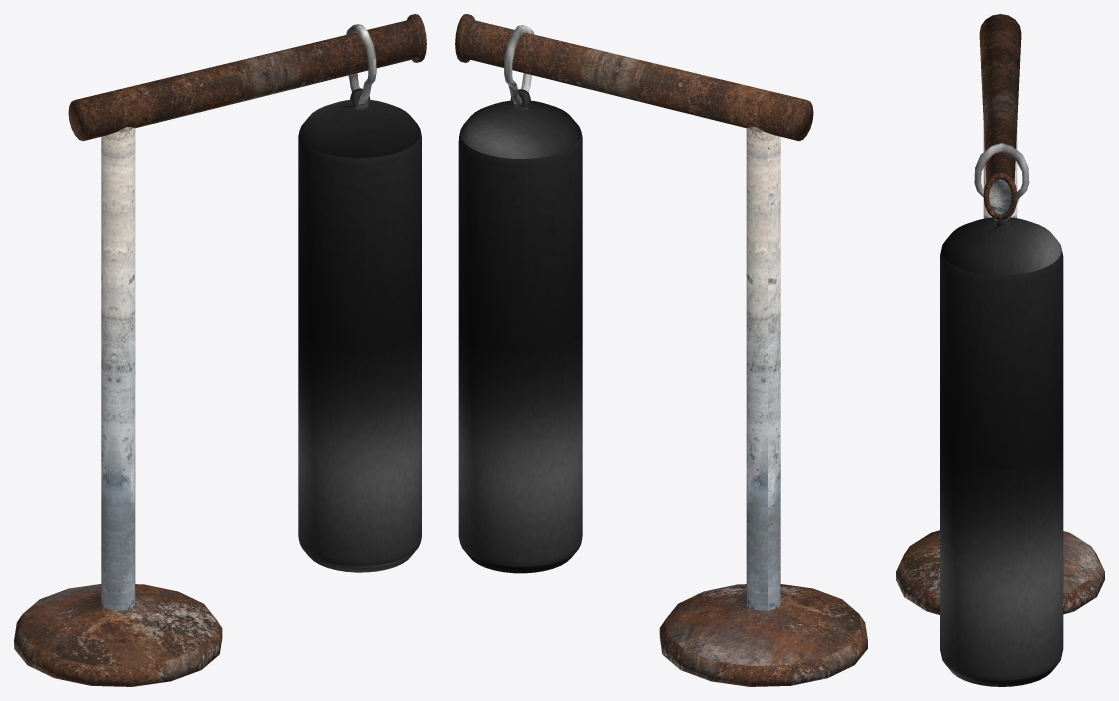
The model's file is punching-bag.glb.
3 renders of one model, left to right at view 1: azimuth 30°, elevation 25°; view 2: azimuth 150°, elevation 25°; view 3: azimuth 270°, elevation 25°, orthographic.
Parts seen in each view (by area): view 1: Cylinder.002, Cylinder, Cylinder.001; view 2: Cylinder.002, Cylinder, Cylinder.001; view 3: Cylinder.002, Cylinder, Cylinder.001.
Part boxes in pixels (x1,y1,x2,y2): Cylinder.002: (298,88,421,572); Cylinder: (14,14,426,686); Cylinder.001: (346,24,376,104); Cylinder.002: (458,89,582,573); Cylinder: (455,14,867,686); Cylinder.001: (504,25,534,105); Cylinder.002: (940,217,1063,686); Cylinder: (896,14,1104,614); Cylinder.001: (974,143,1029,220).
Bounding box in the file's own units: 4.3 × 5.86 × 2.
5 materials, 5 textured.
